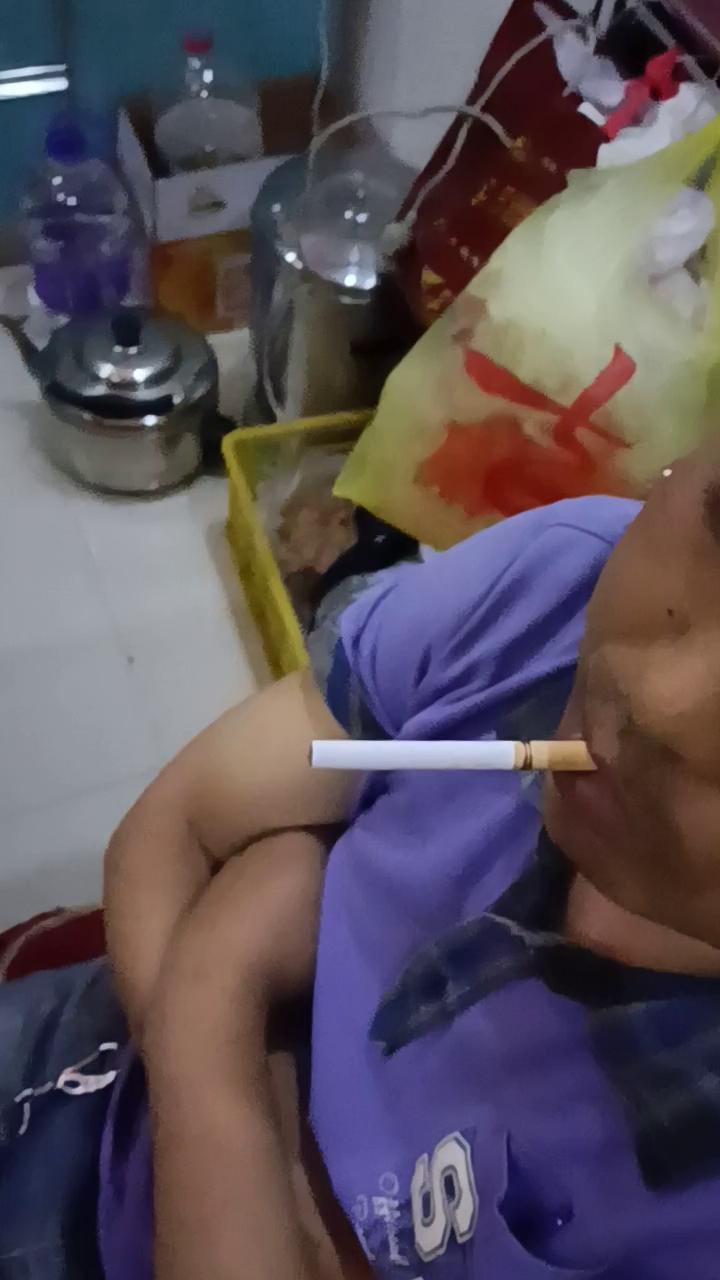smoke: (311, 742, 600, 774)
